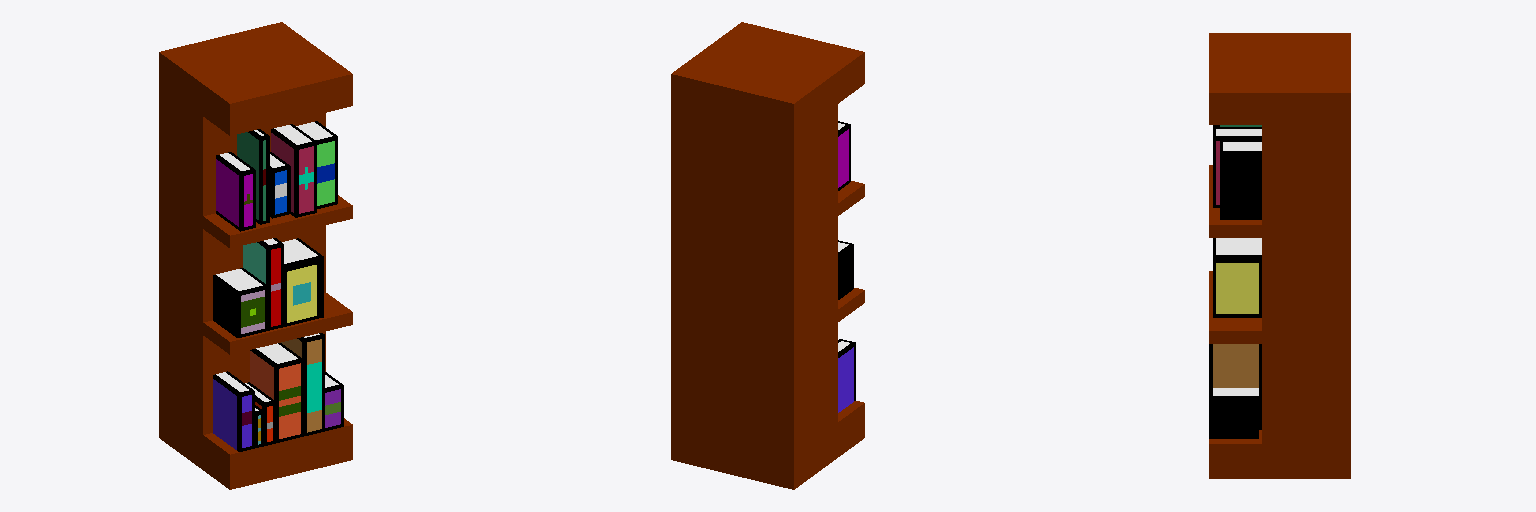
The picture shows the model from 3 angles: view 1: azimuth 30°, elevation 25°; view 2: azimuth 150°, elevation 25°; view 3: azimuth 270°, elevation 25°; orthographic projection.
Parts seen in each view (by area): view 1: object 1; view 2: object 1; view 3: object 1.
Boxes of the visible parts, <box> form: object 1: <box>159,22,352,489</box>; object 1: <box>671,22,864,489</box>; object 1: <box>1209,33,1350,478</box>.
Size of the model in its own units: 4 by 12 by 4.
Materials: 1 (1 with a texture image).